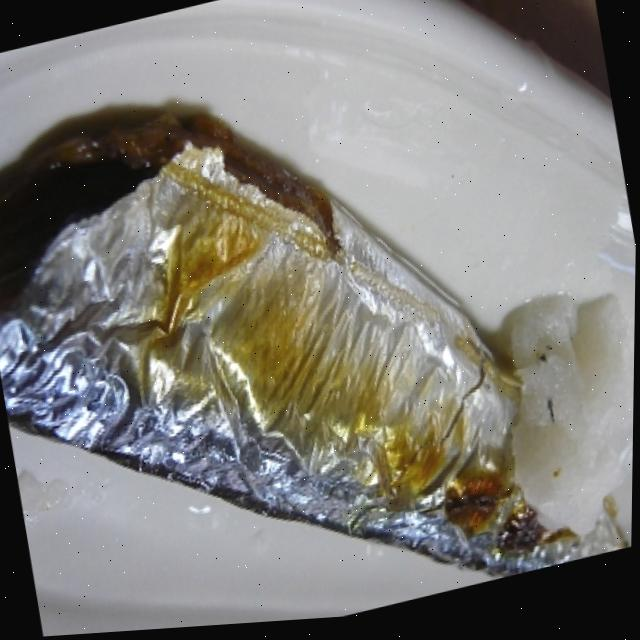熟制海鲜: (0, 34, 639, 640)
